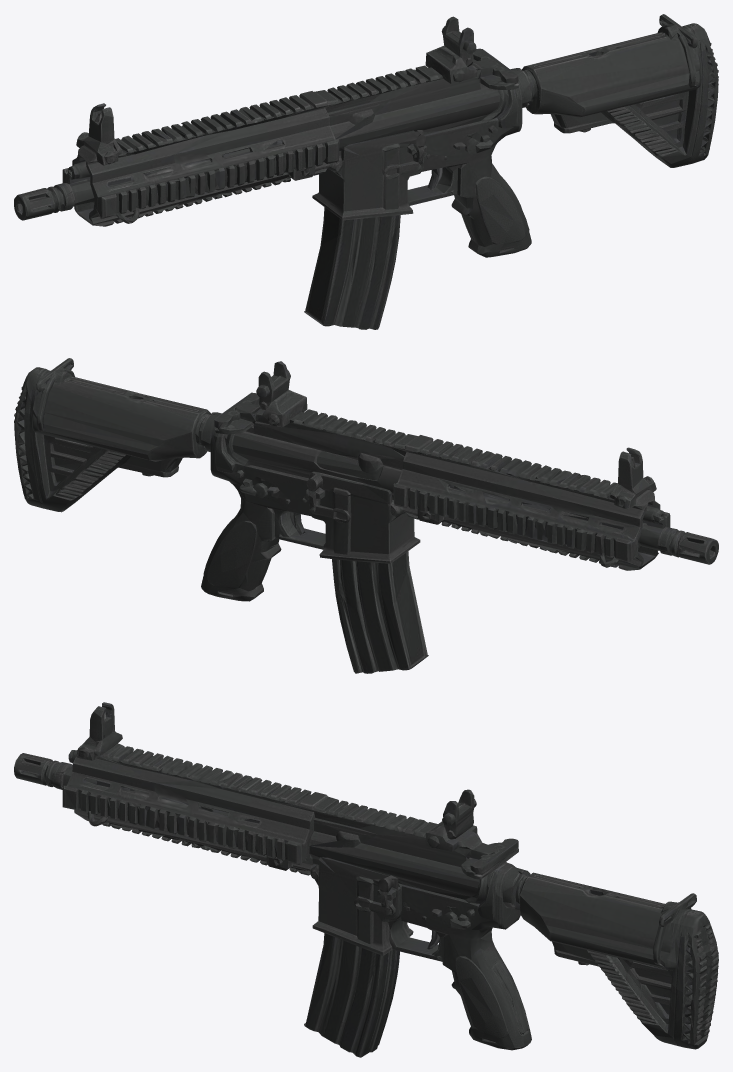
The picture shows the model from 3 angles, top to bottom: view 1: azimuth 30°, elevation 25°; view 2: azimuth 150°, elevation 25°; view 3: azimuth 330°, elevation 25°; orthographic projection.
Parts seen in each view (by area): view 1: Mesh_0; view 2: Mesh_0; view 3: Mesh_0.
Boxes of the visible parts, x1,y1,x2,y2 form: Mesh_0: (14,14,718,329); Mesh_0: (14,358,718,673); Mesh_0: (14,702,718,1057).
Bounding box in the file's own units: 1.9 × 0.7422 × 0.1985.
1 material, 1 textured.
